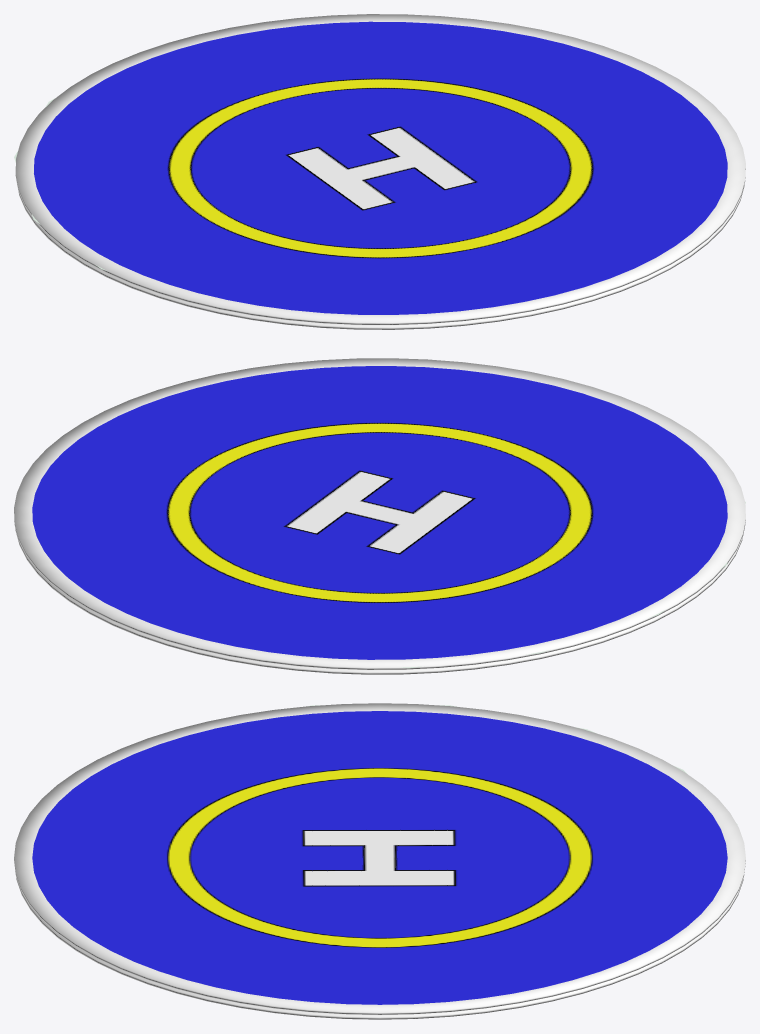
The model's file is Pad_Circle_Generic.gltf.
3 renders of one model, top to bottom at view 1: azimuth 30°, elevation 25°; view 2: azimuth 150°, elevation 25°; view 3: azimuth 270°, elevation 25°, orthographic.
Parts seen in each view (by area): view 1: Pad_Circle_Generic; view 2: Pad_Circle_Generic; view 3: Pad_Circle_Generic.
Part boxes in pixels (left/top/right/bottom): Pad_Circle_Generic: left=14, top=14, right=745, bottom=329; Pad_Circle_Generic: left=14, top=358, right=745, bottom=674; Pad_Circle_Generic: left=14, top=703, right=745, bottom=1019.
Size of the model in its own units: 20.19 by 0.2269 by 20.19.
